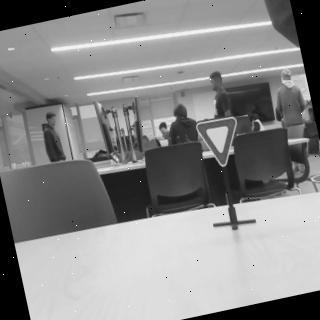sign_yield: (195, 114, 248, 173)
